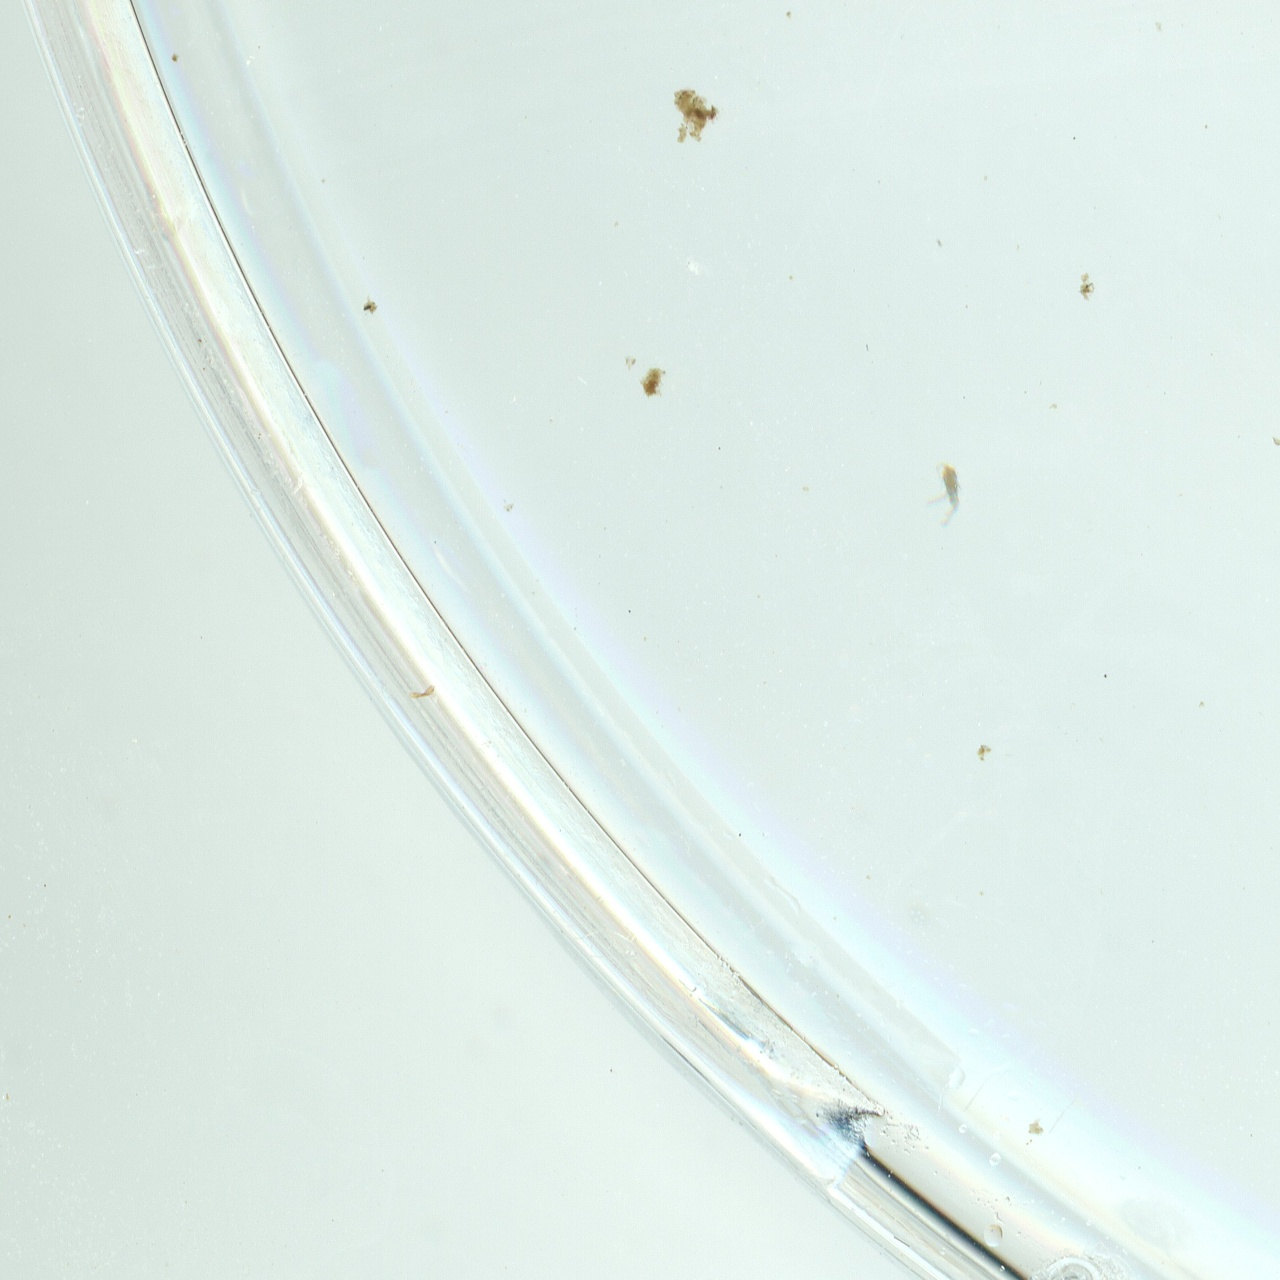arthropod: (921, 461, 965, 530)
